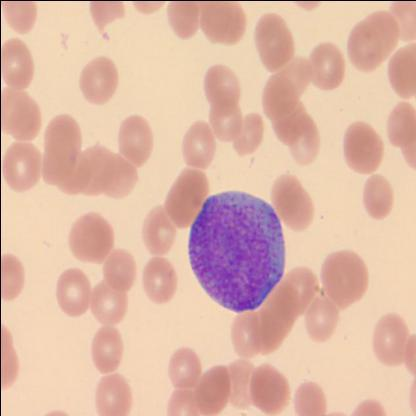Promyelocyte: (187, 188, 286, 310)
